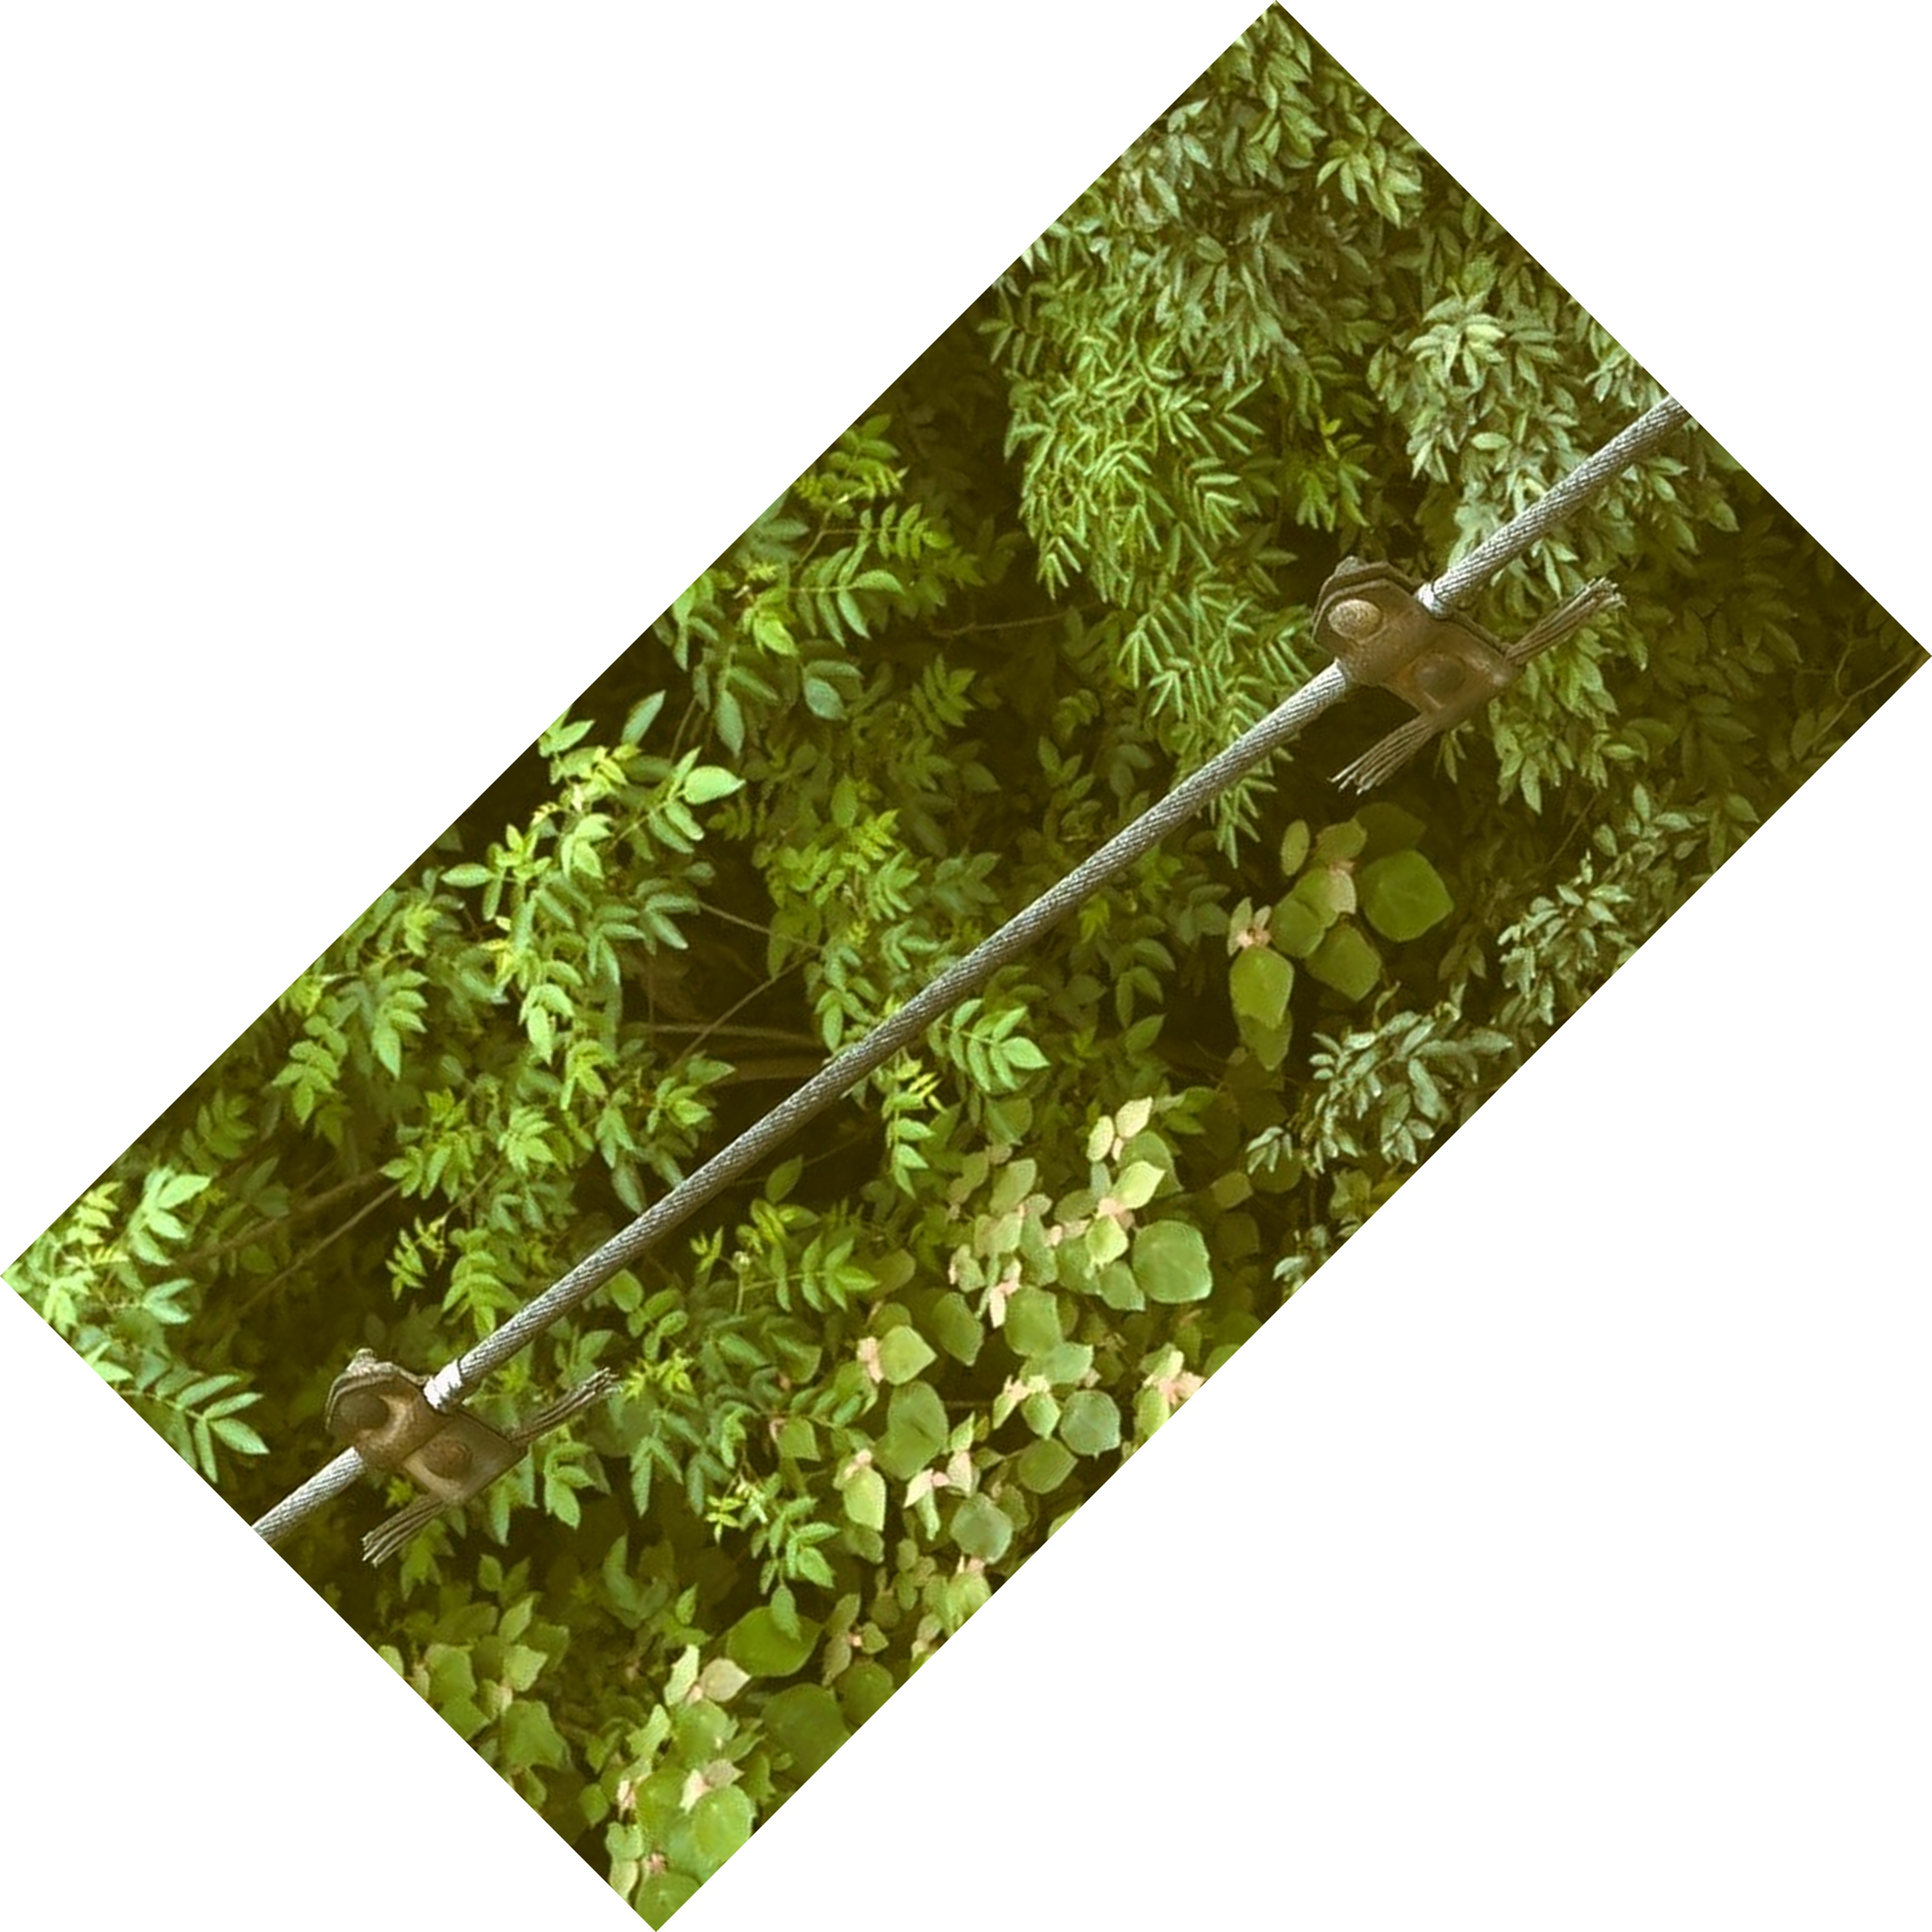Damage of shockproof hammer: (1283, 522, 1686, 842), (297, 1307, 633, 1583)
